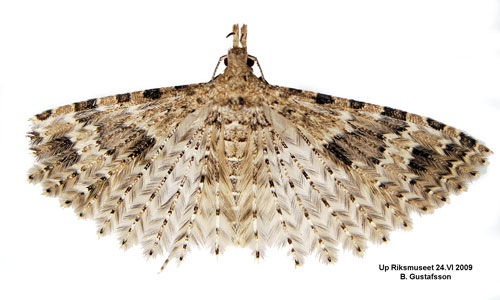Alucitidae: (22, 19, 493, 281)
moth: (20, 17, 491, 279)
